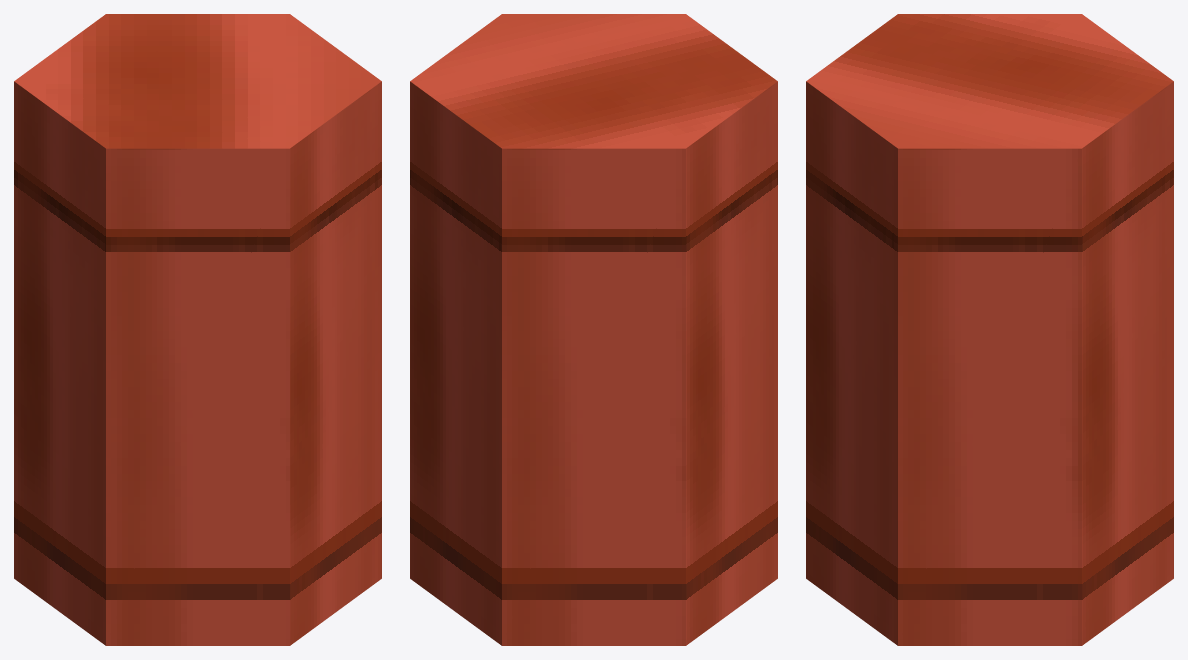
Rendered from barril.fbx.
The picture shows the model from 3 angles, left to right: view 1: azimuth 30°, elevation 25°; view 2: azimuth 150°, elevation 25°; view 3: azimuth 270°, elevation 25°; orthographic projection.
Visible parts, largest first — view 1: barril; view 2: barril; view 3: barril.
Part boxes in pixels (box(x1,y1,x2,y2)): barril: box(14, 14, 381, 645); barril: box(410, 14, 777, 645); barril: box(806, 14, 1173, 645).
Size of the model in its own units: 843 by 1453 by 974.
